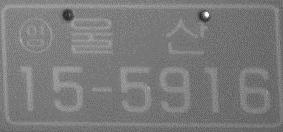-: (87, 81, 115, 103)
1: (198, 65, 232, 115), (11, 65, 45, 113)
5: (52, 65, 85, 112), (119, 66, 152, 113)
6: (238, 67, 271, 115)
9: (158, 66, 191, 113)
영: (17, 16, 53, 53)
울산_D: (68, 16, 209, 57)
